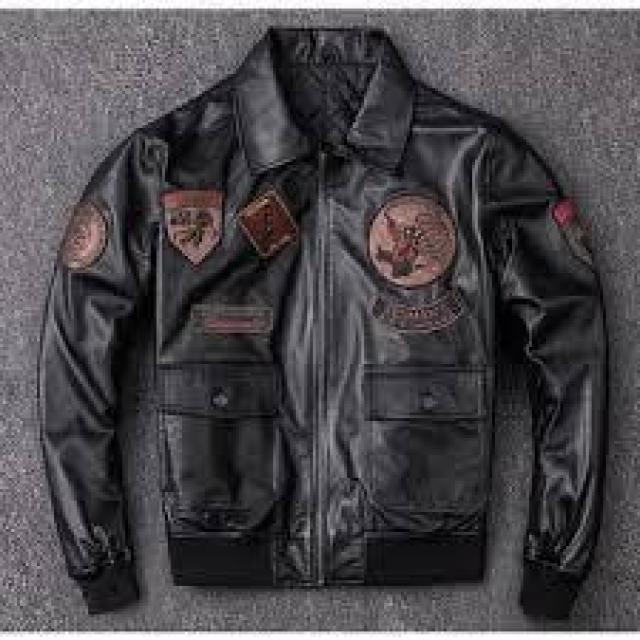jacket: (40, 24, 609, 619)
